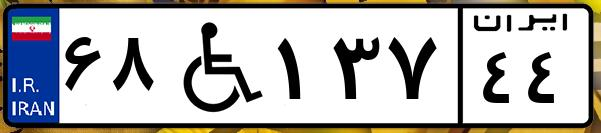1: (270, 28, 330, 110)
3: (330, 28, 385, 110)
4: (475, 38, 525, 113), (525, 38, 570, 115)
6: (57, 26, 110, 100)
7: (385, 28, 445, 110)
8: (110, 28, 158, 98)
ژ (معلولین و جانبازان): (158, 12, 270, 120)
